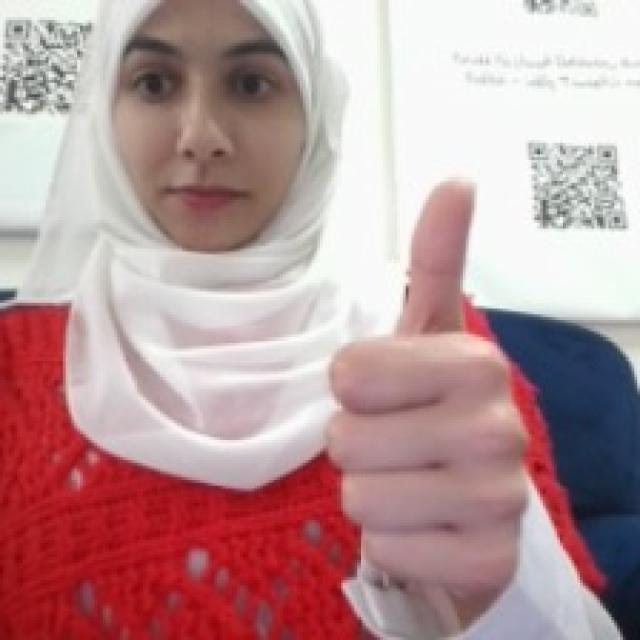fine: (314, 165, 534, 566)
